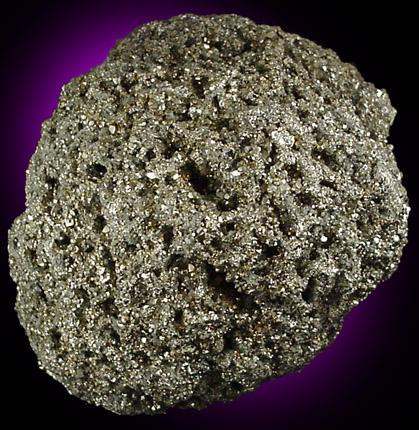pyrite: (7, 14, 409, 418)
